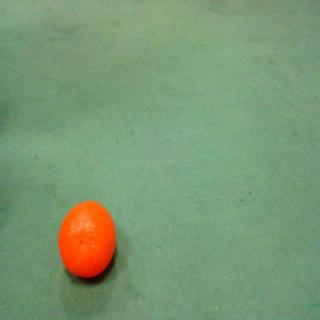orange: (58, 197, 118, 284)
